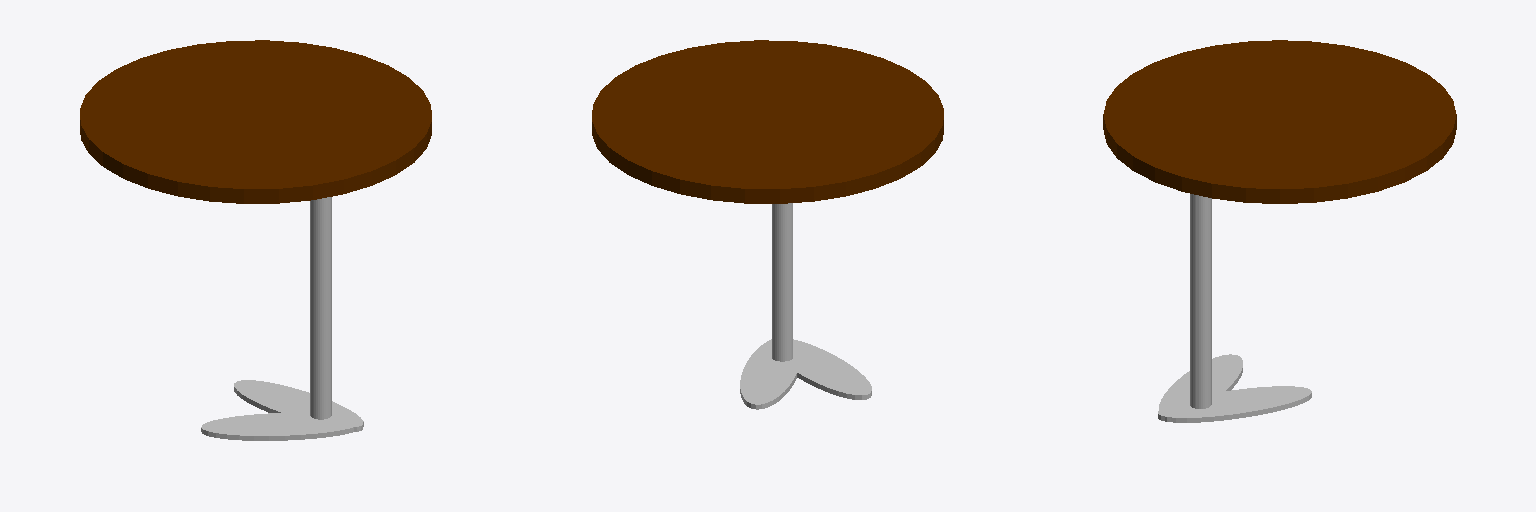
Rendered from smallTable.obj.
The picture shows the model from 3 angles: view 1: azimuth 30°, elevation 25°; view 2: azimuth 150°, elevation 25°; view 3: azimuth 270°, elevation 25°; orthographic projection.
Visible parts, largest first — view 1: Cylinder.005_NORMAL, Cylinder.005_Material.001; view 2: Cylinder.005_NORMAL, Cylinder.005_Material.001; view 3: Cylinder.005_NORMAL, Cylinder.005_Material.001.
Part boxes in pixels (bbox=[...]): Cylinder.005_NORMAL: bbox=[80, 40, 431, 203]; Cylinder.005_Material.001: bbox=[201, 197, 363, 440]; Cylinder.005_NORMAL: bbox=[592, 40, 943, 203]; Cylinder.005_Material.001: bbox=[740, 203, 871, 409]; Cylinder.005_NORMAL: bbox=[1103, 40, 1456, 203]; Cylinder.005_Material.001: bbox=[1158, 194, 1311, 422].
Size of the model in its own units: 1.3 by 1.15 by 1.3.